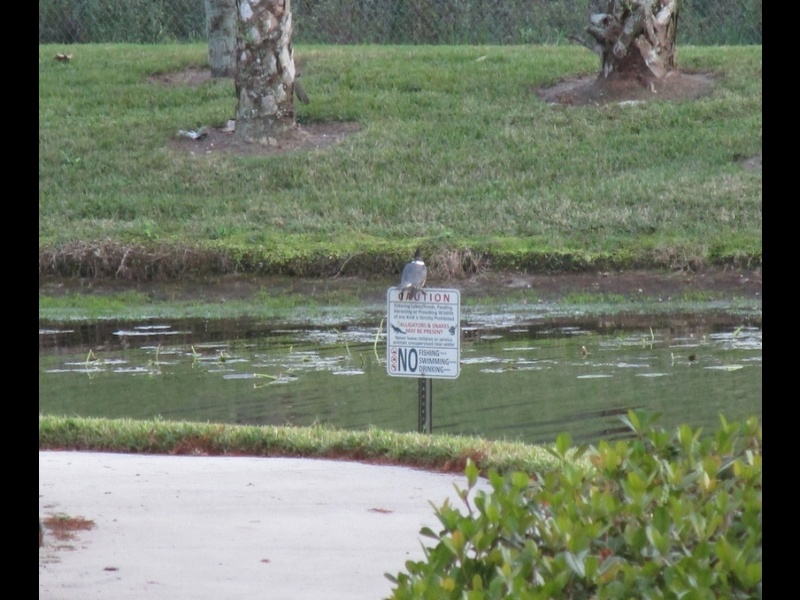kingfisher: (395, 248, 433, 300)
